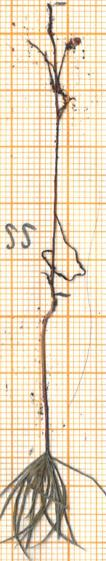flower: (0, 446, 106, 560)
root: (25, 3, 88, 286)
stem: (35, 294, 60, 450)
